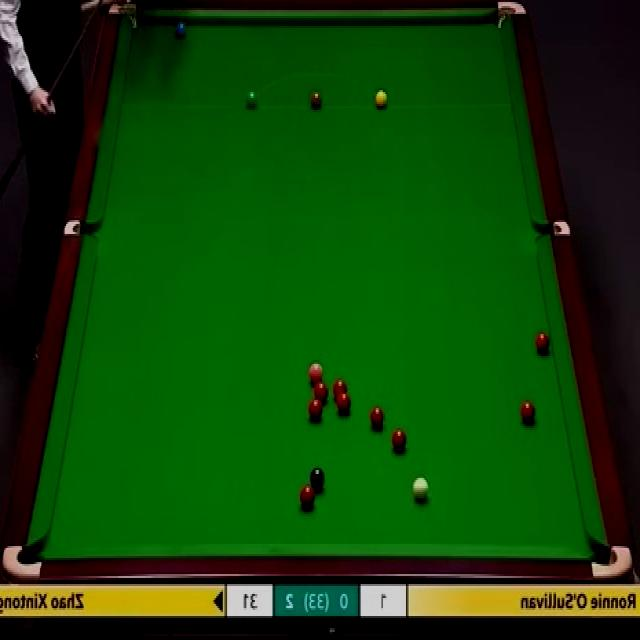black-ball: (311, 466, 325, 489)
blue-ball: (174, 20, 187, 42)
brown-ball: (309, 90, 322, 110)
green-ball: (245, 90, 259, 111)
pink-ball: (309, 362, 323, 388)
red-ball: (534, 332, 551, 356), (391, 428, 407, 453), (313, 379, 329, 404), (308, 397, 322, 425), (300, 484, 316, 508), (370, 405, 386, 429), (333, 378, 347, 404), (522, 401, 534, 424), (338, 393, 350, 413)
white-ball: (412, 476, 430, 501)
yellow-ball: (374, 89, 389, 110)
